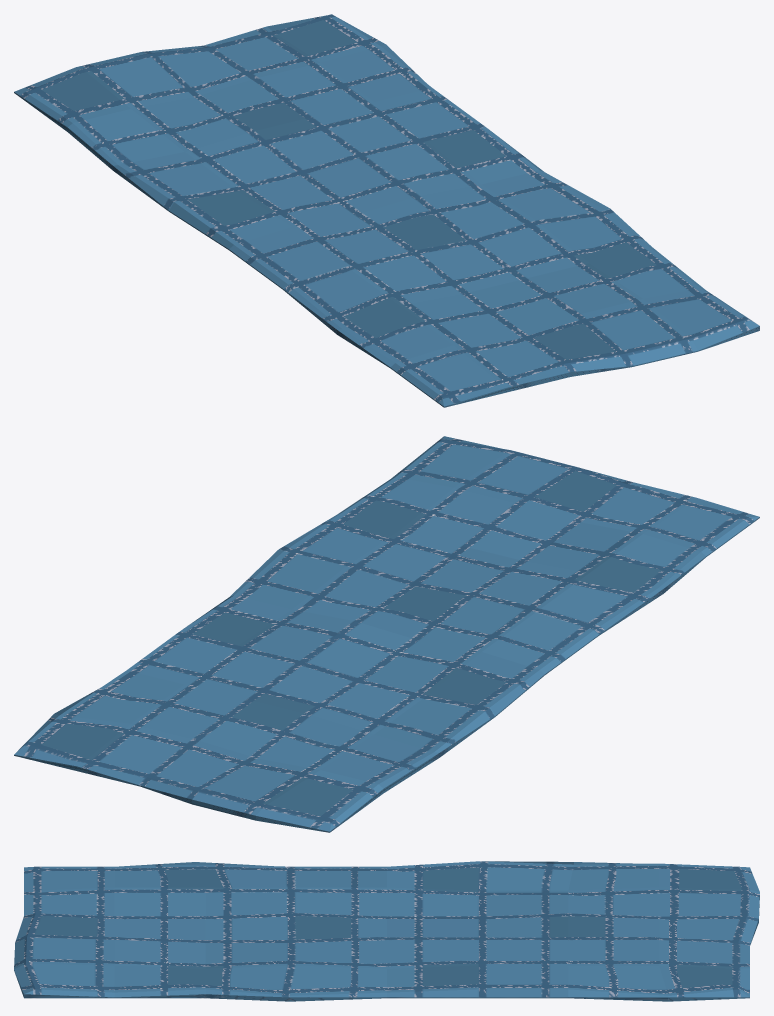
Rendered from Tapijt lang.fbx.
3 views of the same model, one above another, from view 1: azimuth 30°, elevation 25°; view 2: azimuth 150°, elevation 25°; view 3: azimuth 270°, elevation 25° (orthographic). The views are drawn at different scales.
Visible parts, largest first — view 1: Cube; view 2: Cube; view 3: Cube.
Boxes of the visible parts, x1,y1,x2,y2 form: Cube: [14, 14, 759, 407]; Cube: [14, 436, 759, 832]; Cube: [14, 861, 759, 1001].
Size of the model in its own units: 651 by 15.76 by 1514.
